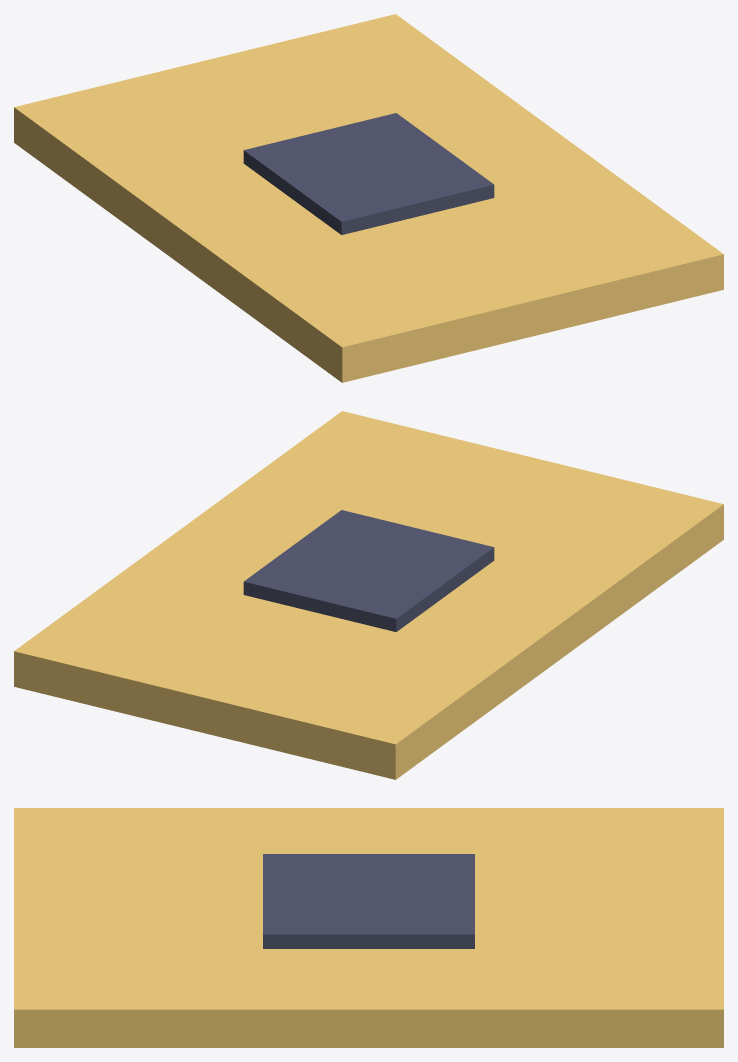
The model's file is FestivalStagePass.fbx.
3 views of the same model, one above another, from view 1: azimuth 30°, elevation 25°; view 2: azimuth 150°, elevation 25°; view 3: azimuth 270°, elevation 25° (orthographic). The views are drawn at different scales.
Visible parts, largest first — view 1: FestivalStagePass Gold__Gold, FestivalStagePass Dark__Dark; view 2: FestivalStagePass Gold__Gold, FestivalStagePass Dark__Dark; view 3: FestivalStagePass Gold__Gold, FestivalStagePass Dark__Dark.
Part boxes in pixels (x1=…): FestivalStagePass Gold__Gold: x1=14, y1=14, x2=723, y2=382; FestivalStagePass Dark__Dark: x1=243, y1=113, x2=494, y2=234; FestivalStagePass Gold__Gold: x1=14, y1=411, x2=723, y2=779; FestivalStagePass Dark__Dark: x1=243, y1=510, x2=494, y2=631; FestivalStagePass Gold__Gold: x1=14, y1=808, x2=723, y2=1047; FestivalStagePass Dark__Dark: x1=263, y1=854, x2=474, y2=948.
Bounding box in the file's own units: 45 × 5.5 × 67.
